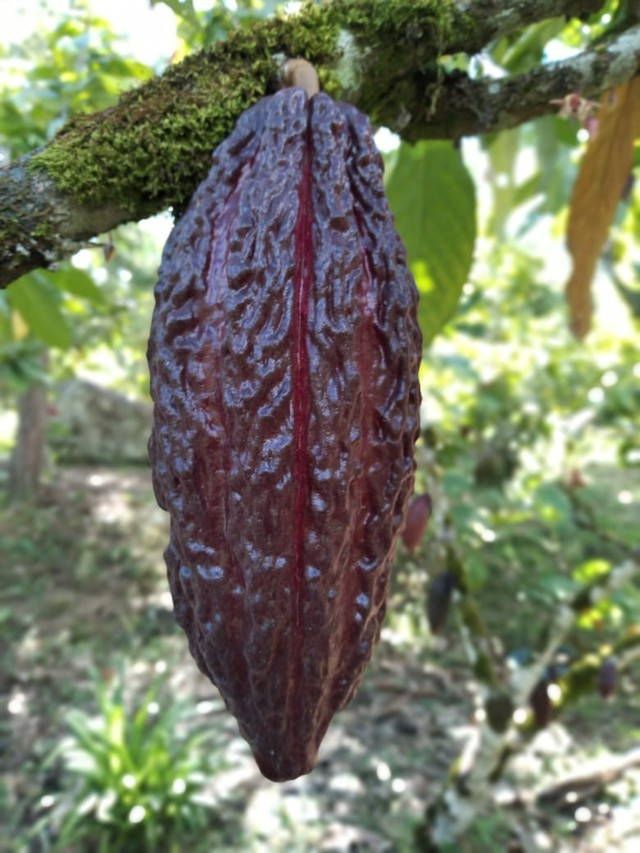Health: (140, 71, 427, 798)
